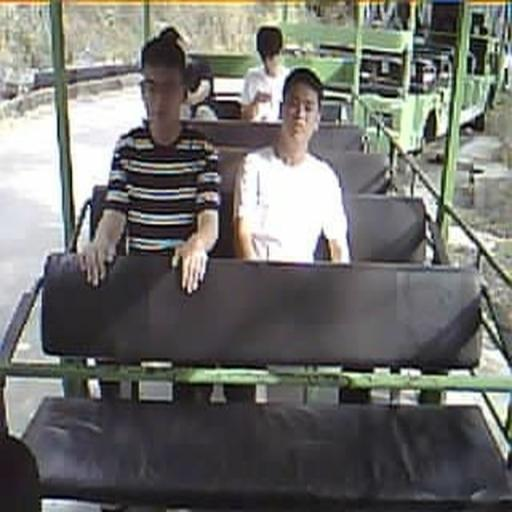persona: (76, 29, 223, 295), (230, 66, 352, 265), (160, 25, 220, 121), (240, 24, 292, 122)
